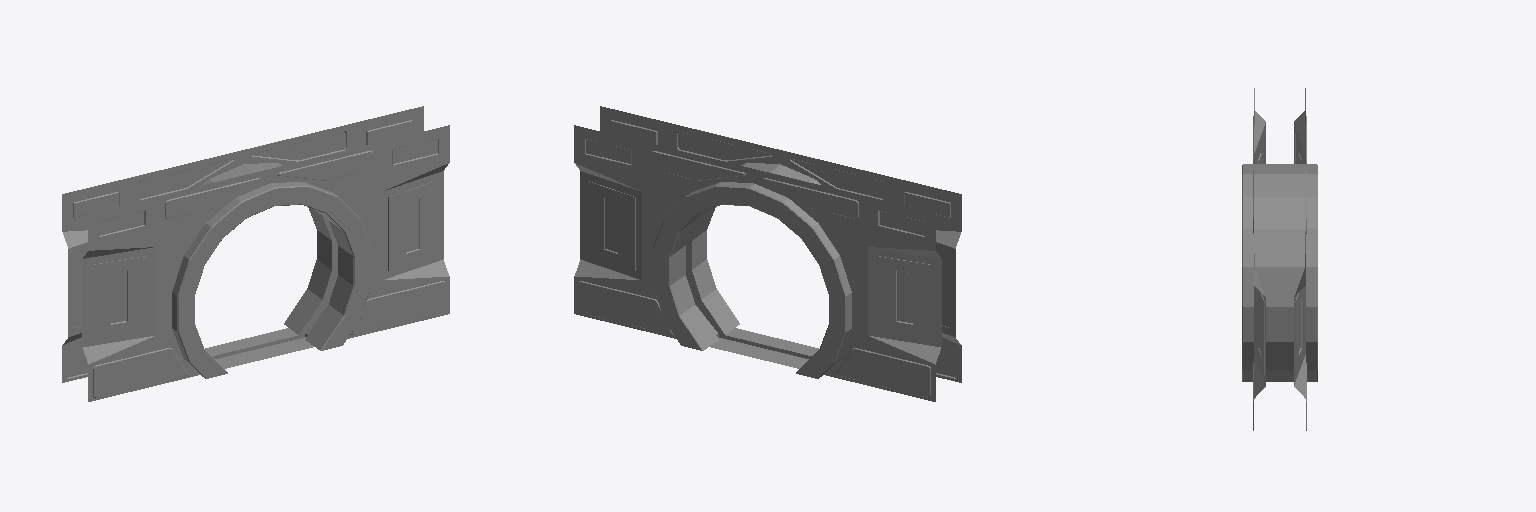
Rendered from Door01_HP.obj.
3 views of the same model, side by side, from view 1: azimuth 30°, elevation 25°; view 2: azimuth 150°, elevation 25°; view 3: azimuth 270°, elevation 25° (orthographic).
Parts seen in each view (by area): view 1: Box002; view 2: Box002; view 3: Box002.
Part boxes in pixels (bbox=[...]): Box002: bbox=[62, 106, 449, 401]; Box002: bbox=[574, 106, 961, 401]; Box002: bbox=[1242, 88, 1317, 430].
Bounding box in the file's own units: 1024 × 522 × 185.